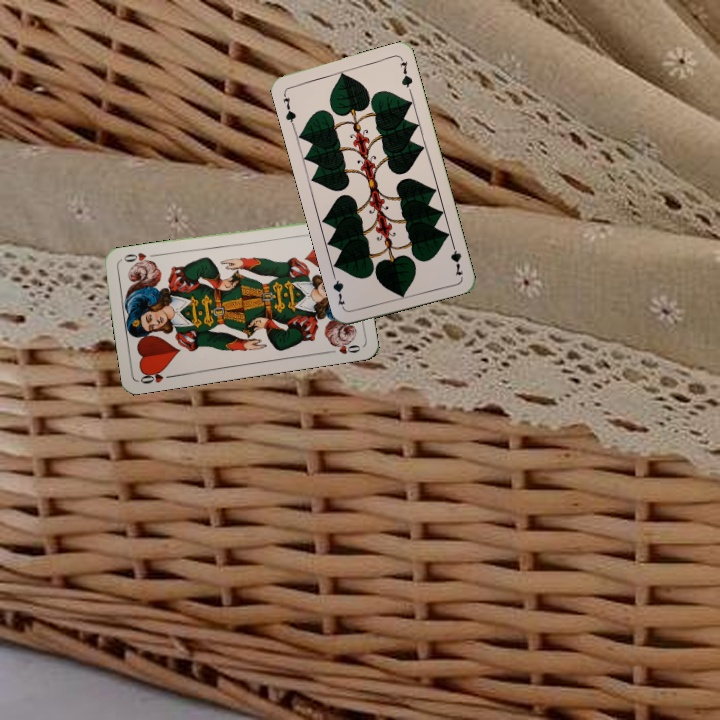G7: (446, 238, 466, 278), (279, 88, 299, 128)
HO: (136, 366, 176, 386)
